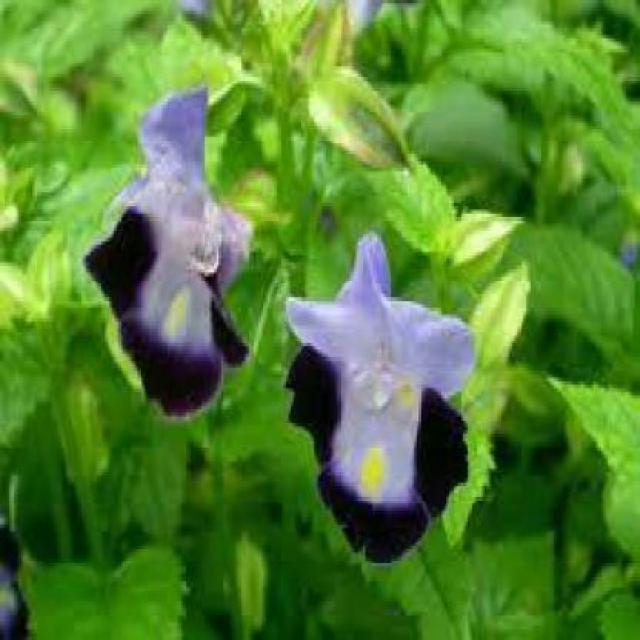flower: (284, 238, 473, 552), (88, 80, 266, 406)
